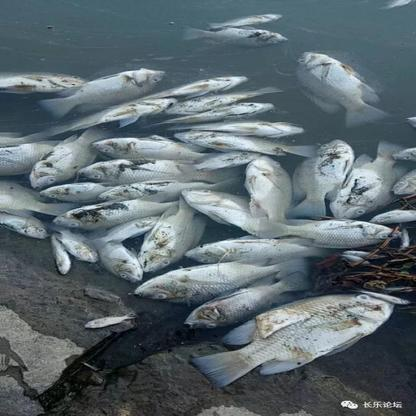deceased fish: (201, 291, 395, 384), (64, 71, 250, 132), (299, 51, 394, 131), (181, 281, 320, 328), (40, 67, 165, 115), (331, 135, 404, 216), (132, 196, 214, 267), (26, 124, 113, 189), (132, 265, 301, 296), (265, 214, 401, 249), (298, 140, 353, 218), (182, 231, 312, 264), (234, 154, 295, 217), (169, 80, 285, 109), (93, 135, 216, 160), (183, 189, 262, 226), (174, 25, 289, 50), (98, 178, 233, 198), (100, 233, 144, 284), (1, 69, 86, 93), (207, 10, 284, 30), (39, 184, 125, 201), (2, 211, 49, 241), (51, 232, 71, 278)
